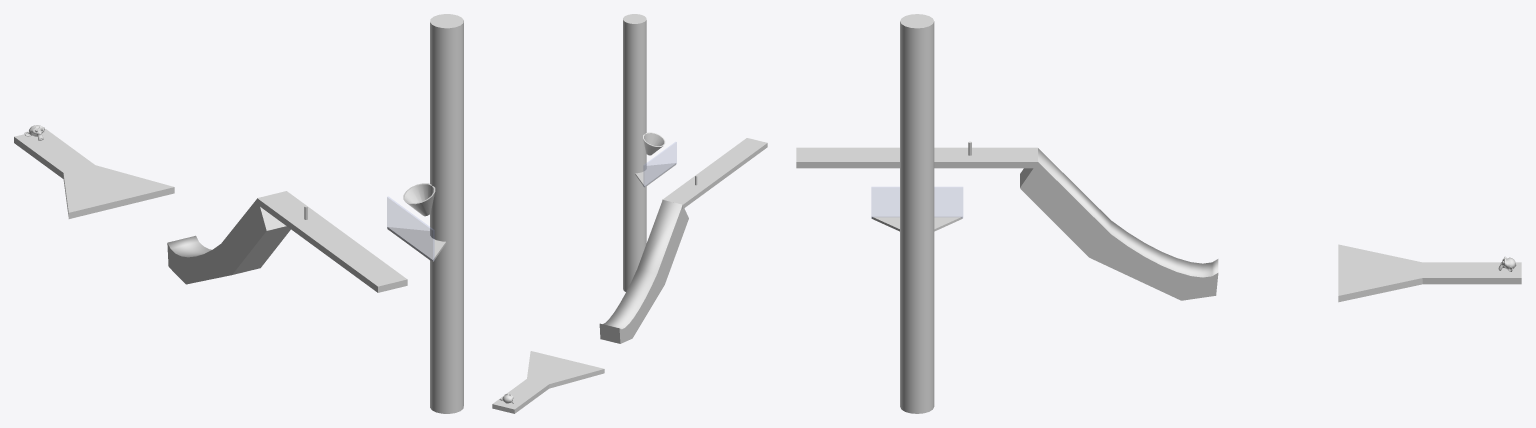
The picture shows the model from 3 angles, left to right: view 1: azimuth 30°, elevation 25°; view 2: azimuth 150°, elevation 25°; view 3: azimuth 270°, elevation 25°; orthographic projection. The views are drawn at different scales.
Parts seen in each view (by area): view 1: Cylinder-col, Cube.002-col, Cube.001-col, Cube-col, Cube-col.002, Cube-col.001, Cone-col; view 2: Cylinder-col, Cube.001-col, Cube.002-col, Cube-col, Cube-col.002, Cube-col.001, Cone-col; view 3: Cylinder-col, Cube.001-col, Cube.002-col, Cube-col, Cube-col.002.
Boxes of the visible parts, box(x1,y1,x2,y2) form: Cylinder-col: box(430, 14, 463, 413); Cube.002-col: box(14, 129, 174, 218); Cube.001-col: box(167, 199, 290, 284); Cube-col: box(257, 191, 407, 292); Cube-col.002: box(387, 197, 434, 260); Cube-col.001: box(387, 227, 446, 261); Cone-col: box(403, 183, 435, 216); Cylinder-col: box(623, 14, 646, 291); Cube.001-col: box(599, 200, 688, 343); Cube.002-col: box(492, 351, 604, 413); Cube-col: box(662, 138, 767, 208); Cube-col.002: box(643, 142, 676, 186); Cube-col.001: box(635, 163, 676, 187); Cone-col: box(643, 132, 665, 155); Cylinder-col: box(900, 14, 934, 413); Cube.001-col: box(1020, 148, 1218, 300); Cube.002-col: box(1338, 244, 1521, 302); Cube-col: box(796, 147, 1037, 168); Cube-col.002: box(871, 187, 962, 217).
Bounding box in the file's own units: 29.6 × 59.84 × 102.
